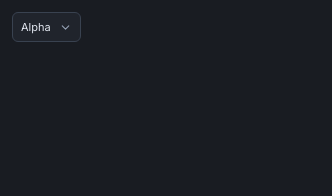
searches, selects using the keyboard, and restores focus
Press ArrowDown in the dropdown named "Database", box [12,12,81,42]
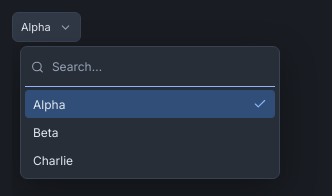
Type "beta" into the dropdown named "Search database" at point(159, 66), box [50,53,269,80]
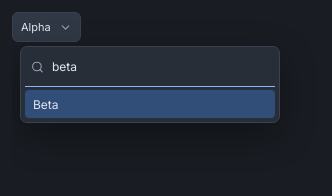
Press Enter in the dropdown named "Search database", box [50,53,269,80]
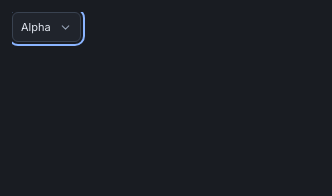
Expected: the list is gone
